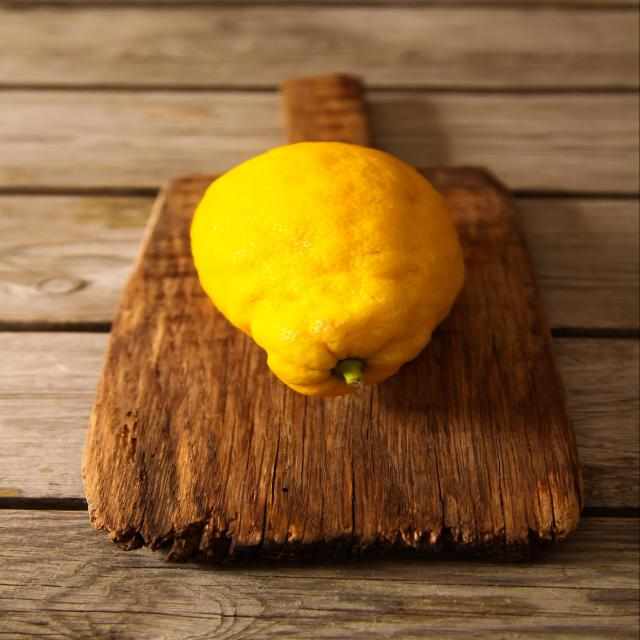lemon: (185, 137, 471, 400)
